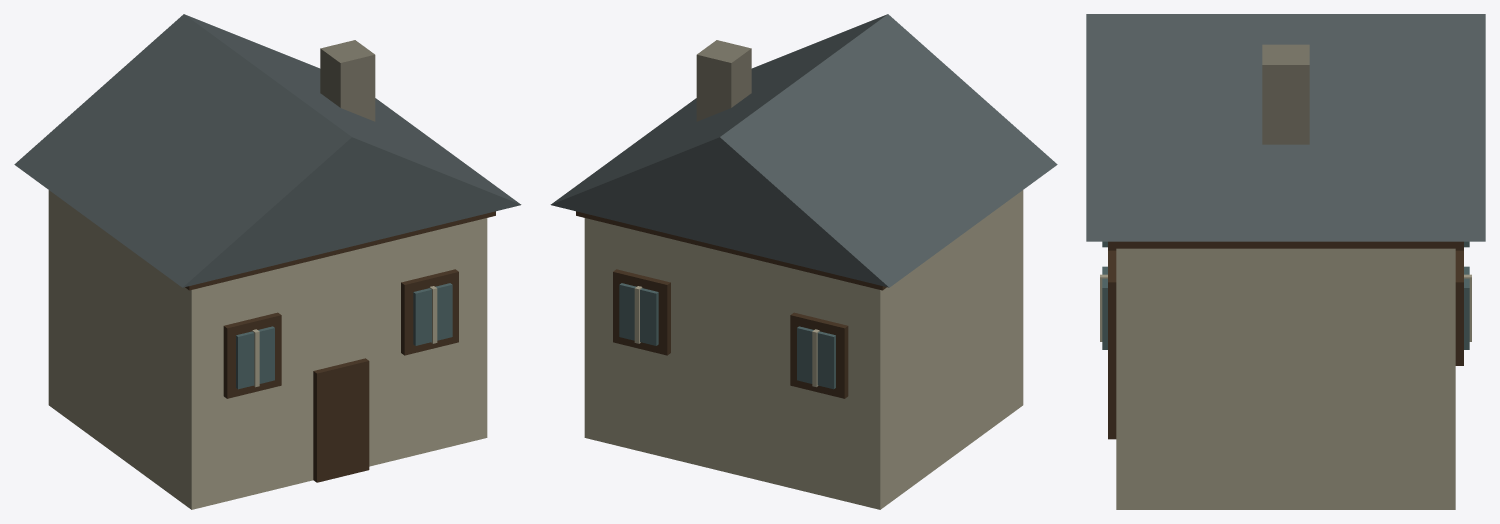
3 views of the same model, side by side, from view 1: azimuth 30°, elevation 25°; view 2: azimuth 150°, elevation 25°; view 3: azimuth 270°, elevation 25° (orthographic). The views are drawn at different scales.
Parts seen in each view (by area): view 1: alpine-body; view 2: alpine-body; view 3: alpine-body.
Boxes of the visible parts, x1,y1,x2,y2 form: alpine-body: [14, 14, 521, 509]; alpine-body: [550, 14, 1057, 509]; alpine-body: [1086, 14, 1485, 509].
Bounding box in the file's own units: 7.8 × 7.7 × 6.7.
